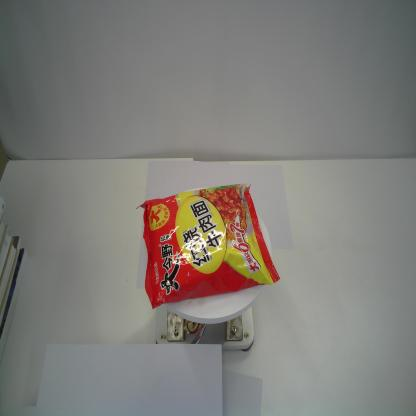Instant Noodles: (136, 182, 282, 310)
